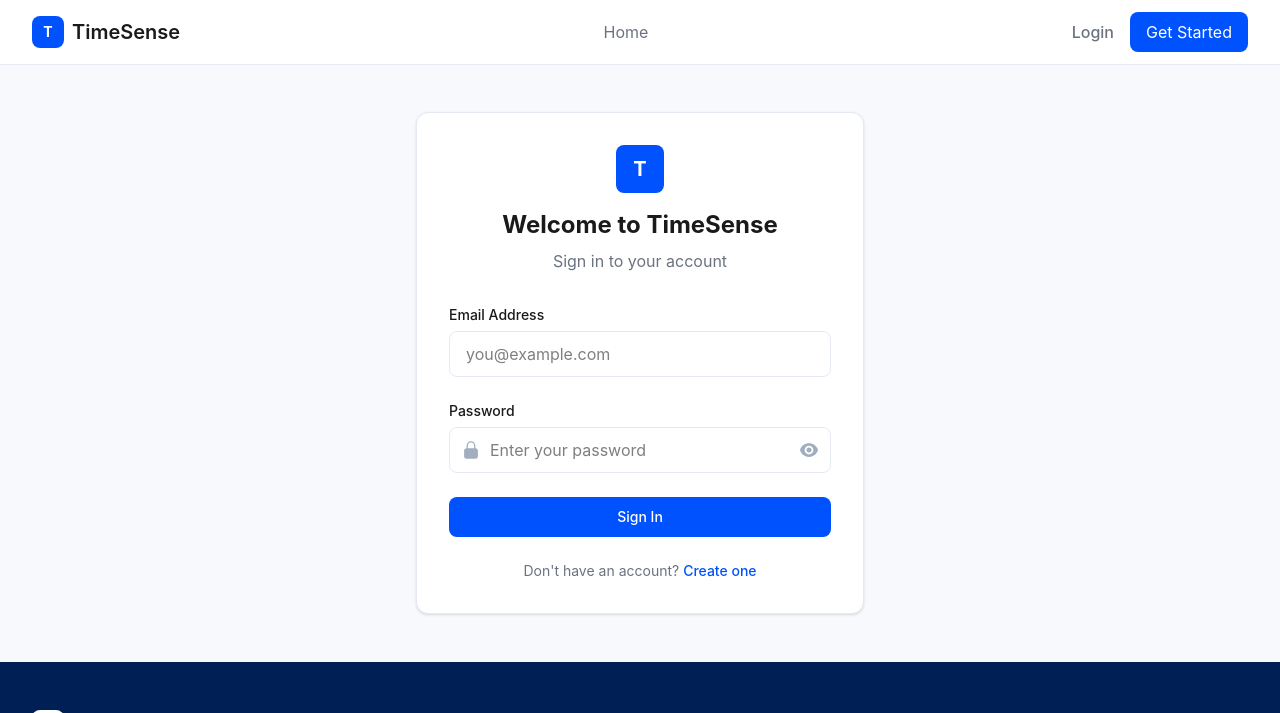
Scenario: Login Page › Form Validation › should show error for invalid email format
In the field with test id "email-input": (640, 354) [449,331,831,377], type "invalid-email"
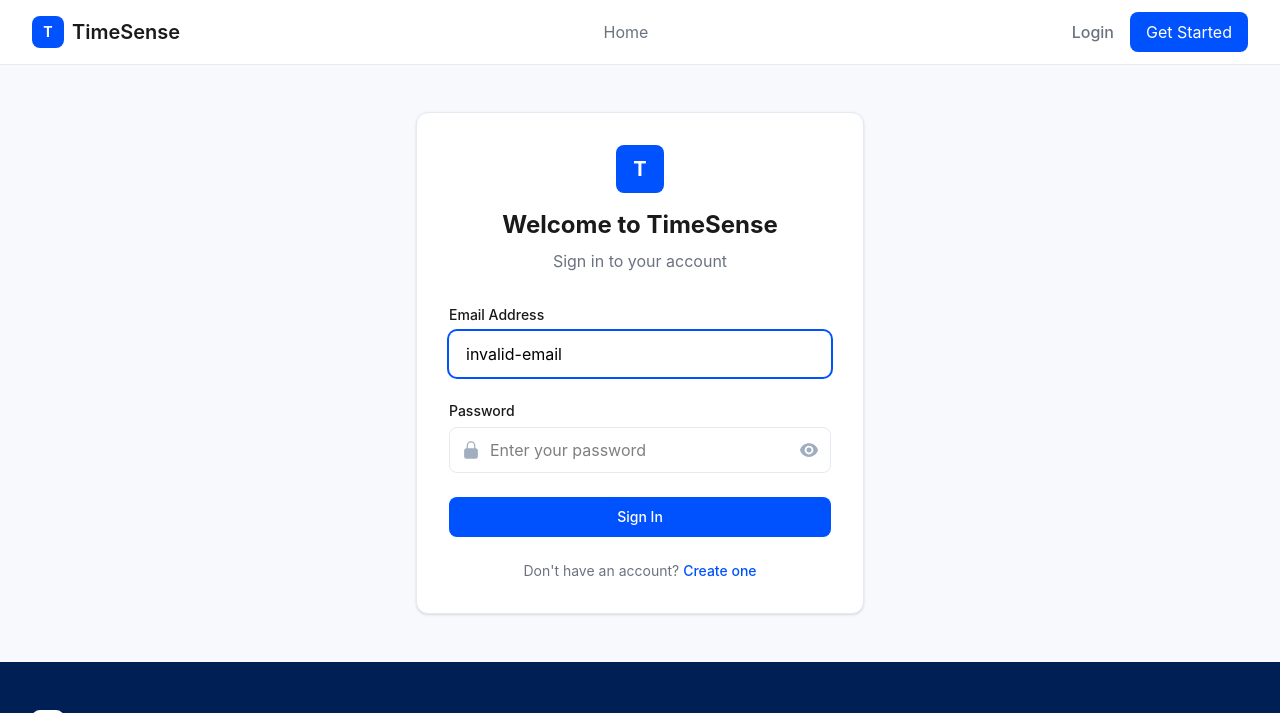
Click the button with test id "login-button": (640, 517) [449,497,831,537]
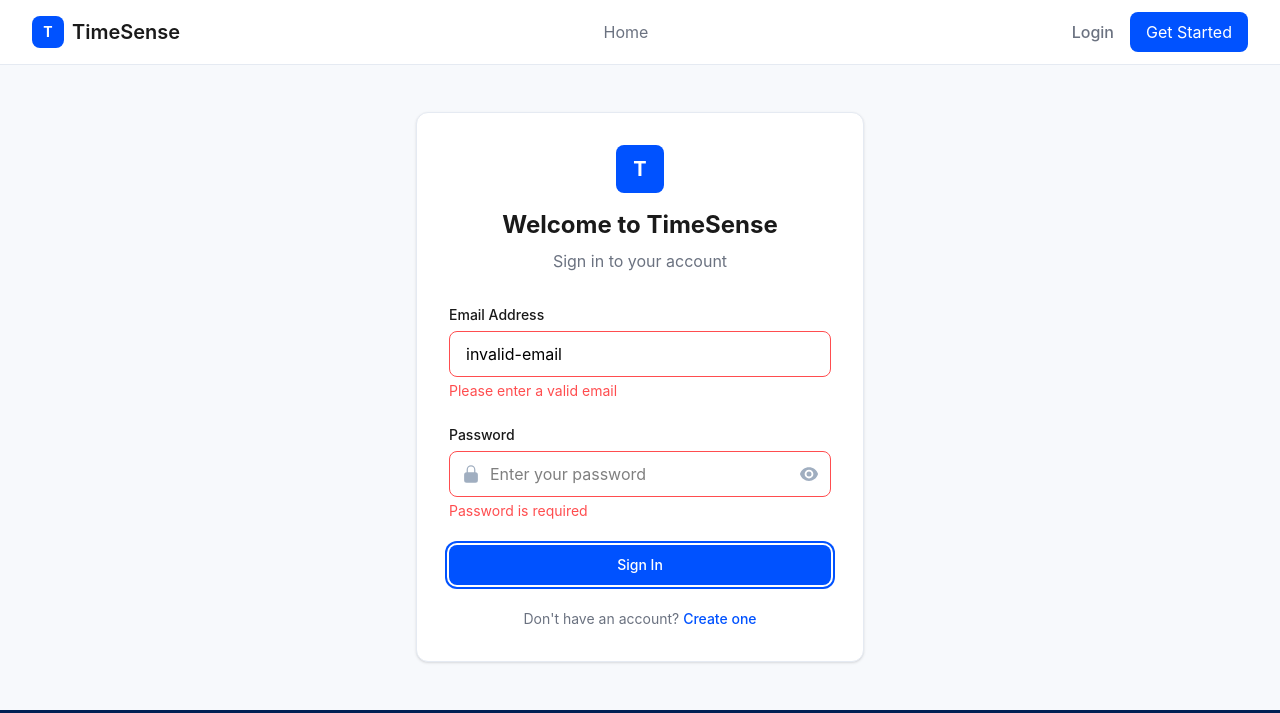
Now the text "Please enter a valid email" is shown, box [449,382,617,399]
